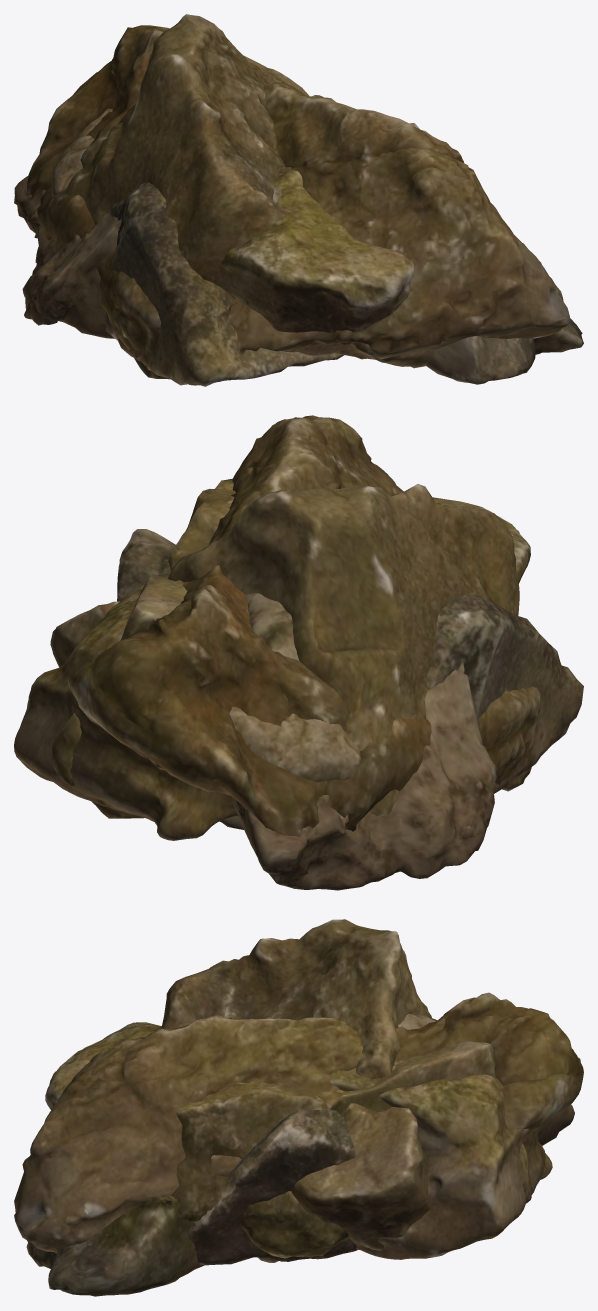
File: rock_moss_set_01.glb
3 renders of one model, top to bottom at view 1: azimuth 30°, elevation 25°; view 2: azimuth 150°, elevation 25°; view 3: azimuth 270°, elevation 25°, orthographic. The views are drawn at different scales.
Visible parts, largest first — view 1: rock_moss_set_01_a_lod0, rock_moss_set_01_b_lod0, rock_moss_set_01_d_lod0, rock_moss_set_01_f_lod0, rock_moss_set_01_c_lod0, rock_moss_set_01_e_lod0; view 2: rock_moss_set_01_a_lod0, rock_moss_set_01_b_lod0, rock_moss_set_01_c_lod0, rock_moss_set_01_d_lod0, rock_moss_set_01_f_lod0, rock_moss_set_01_e_lod0; view 3: rock_moss_set_01_a_lod0, rock_moss_set_01_b_lod0, rock_moss_set_01_d_lod0, rock_moss_set_01_e_lod0, rock_moss_set_01_c_lod0, rock_moss_set_01_f_lod0.
Boxes of the visible parts, x1=… form: rock_moss_set_01_a_lod0: x1=25, y1=25, x2=570, y2=379; rock_moss_set_01_b_lod0: x1=54, y1=14, x2=324, y2=299; rock_moss_set_01_d_lod0: x1=51, y1=92, x2=414, y2=355; rock_moss_set_01_f_lod0: x1=105, y1=123, x2=430, y2=386; rock_moss_set_01_c_lod0: x1=14, y1=175, x2=583, y2=384; rock_moss_set_01_e_lod0: x1=243, y1=55, x2=435, y2=368; rock_moss_set_01_a_lod0: x1=68, y1=415, x2=540, y2=845; rock_moss_set_01_b_lod0: x1=50, y1=484, x2=519, y2=816; rock_moss_set_01_c_lod0: x1=232, y1=593, x2=496, y2=890; rock_moss_set_01_d_lod0: x1=14, y1=497, x2=530, y2=840; rock_moss_set_01_f_lod0: x1=117, y1=529, x2=583, y2=829; rock_moss_set_01_e_lod0: x1=51, y1=478, x2=235, y2=818; rock_moss_set_01_a_lod0: x1=14, y1=992, x2=583, y2=1262; rock_moss_set_01_b_lod0: x1=161, y1=919, x2=431, y2=1251; rock_moss_set_01_d_lod0: x1=45, y1=1022, x2=552, y2=1259; rock_moss_set_01_e_lod0: x1=171, y1=1041, x2=532, y2=1258; rock_moss_set_01_c_lod0: x1=26, y1=1013, x2=574, y2=1296; rock_moss_set_01_f_lod0: x1=188, y1=1108, x2=358, y2=1265.
Size of what is drawn, in the model's own units: 2.66 by 1.77 by 3.37.
Materials: 1 (1 with a texture image).
